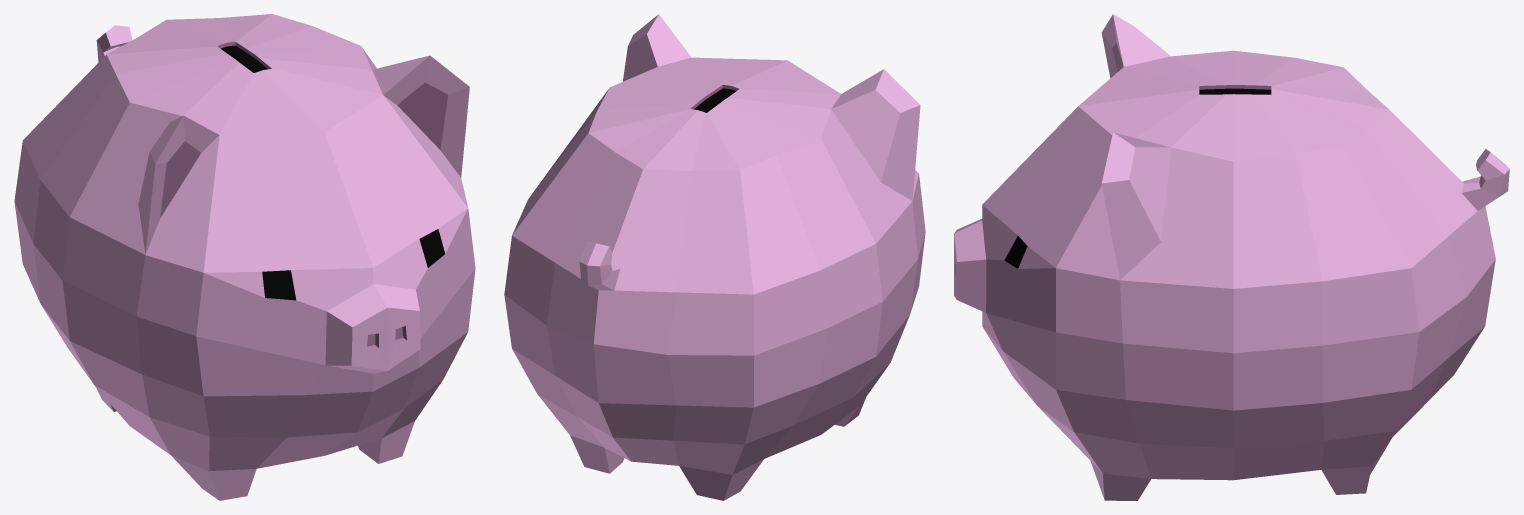
File: piggybank.glb
3 renders of one model, left to right at view 1: azimuth 30°, elevation 25°; view 2: azimuth 150°, elevation 25°; view 3: azimuth 270°, elevation 25°, orthographic. The views are drawn at different scales.
Parts seen in each view (by area): view 1: Sphere; view 2: Sphere; view 3: Sphere.
Boxes of the visible parts, x1,y1,x2,y2 form: Sphere: [14, 14, 475, 500]; Sphere: [504, 14, 925, 500]; Sphere: [954, 14, 1509, 500].
Bounding box in the file's own units: 1.57 × 1.6 × 2.1.
